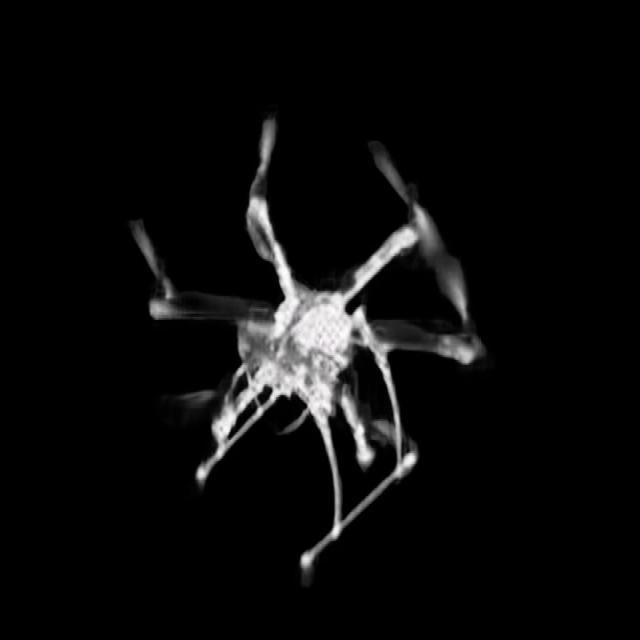drone: (110, 89, 502, 586)
